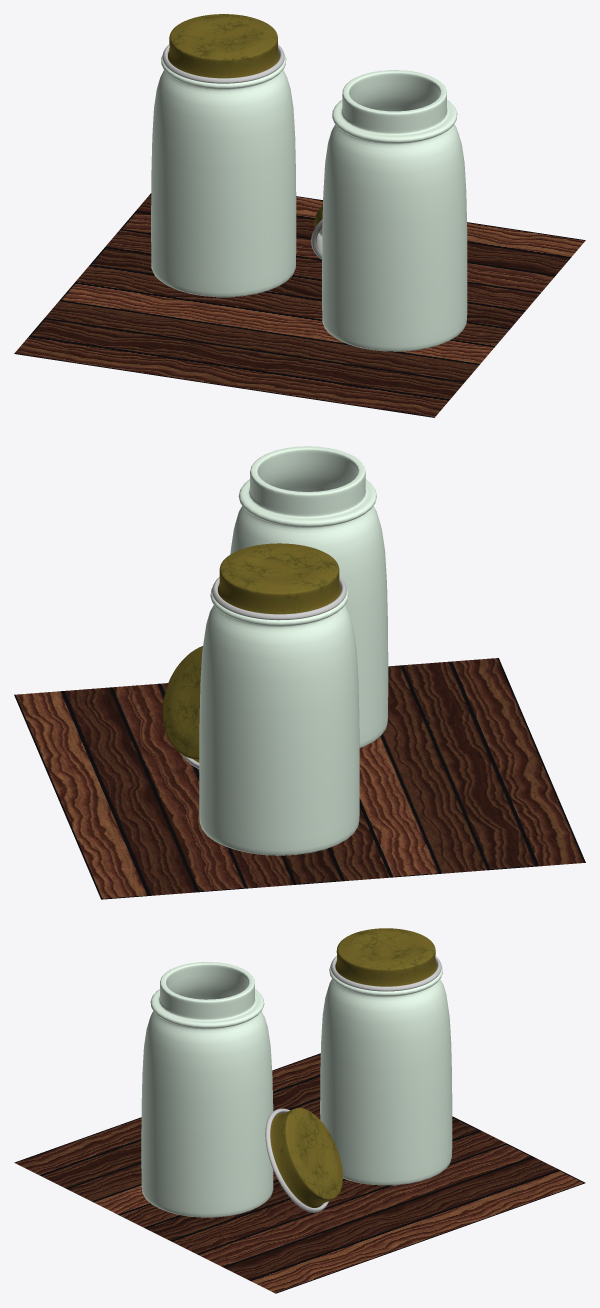
File: obj_mason_jars_ca59b0.glb
3 renders of one model, top to bottom at view 1: azimuth 30°, elevation 25°; view 2: azimuth 150°, elevation 25°; view 3: azimuth 270°, elevation 25°, orthographic. The views are drawn at different scales.
Visible parts, largest first — view 1: obj_mason_jars_ca59b0; view 2: obj_mason_jars_ca59b0; view 3: obj_mason_jars_ca59b0.
Boxes of the visible parts, left/top/right/bottom form: obj_mason_jars_ca59b0: left=14, top=14, right=585, bottom=417; obj_mason_jars_ca59b0: left=14, top=446, right=585, bottom=899; obj_mason_jars_ca59b0: left=14, top=928, right=585, bottom=1293.
Bounding box in the file's own units: 0.4857 × 0.2 × 0.4857.
4 materials, 3 textured.
